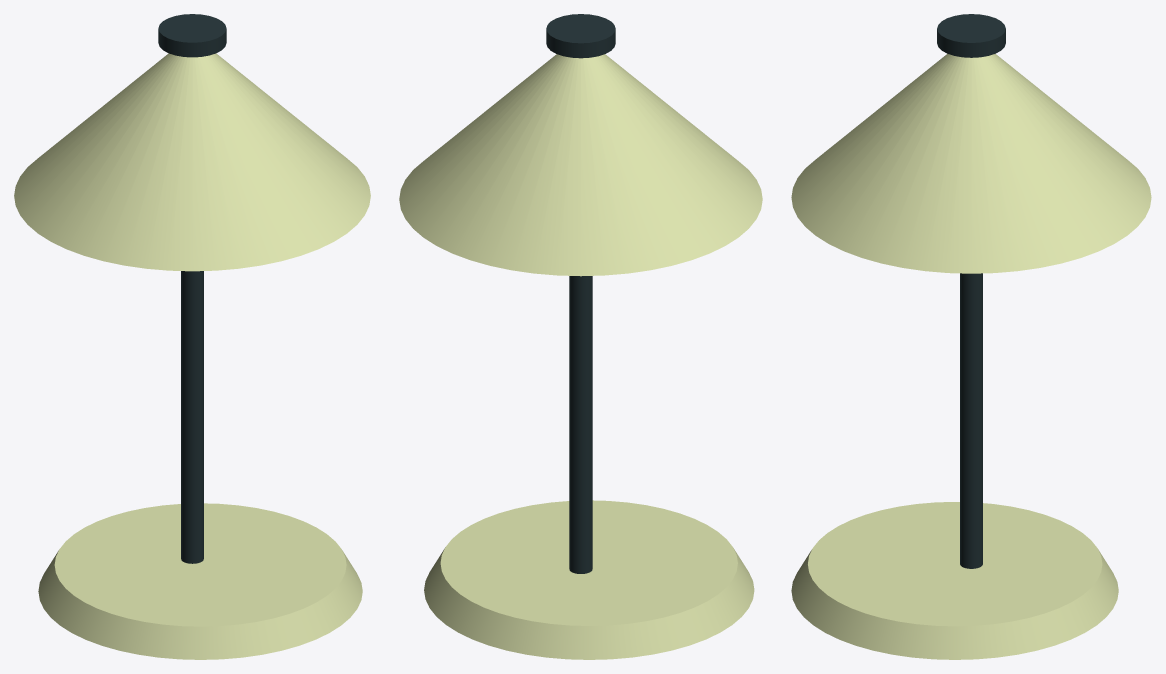
The model's file is demo-lamp.glb.
The picture shows the model from 3 angles, left to right: view 1: azimuth 30°, elevation 25°; view 2: azimuth 150°, elevation 25°; view 3: azimuth 270°, elevation 25°; orthographic projection.
Visible parts, largest first — view 1: 示例台灯; view 2: 示例台灯; view 3: 示例台灯.
Part boxes in pixels (box(x1,y1,x2,y2)): 示例台灯: box(14, 14, 370, 659); 示例台灯: box(399, 14, 762, 659); 示例台灯: box(791, 14, 1151, 659).
Size of the model in its own units: 22 by 37.9 by 22.
